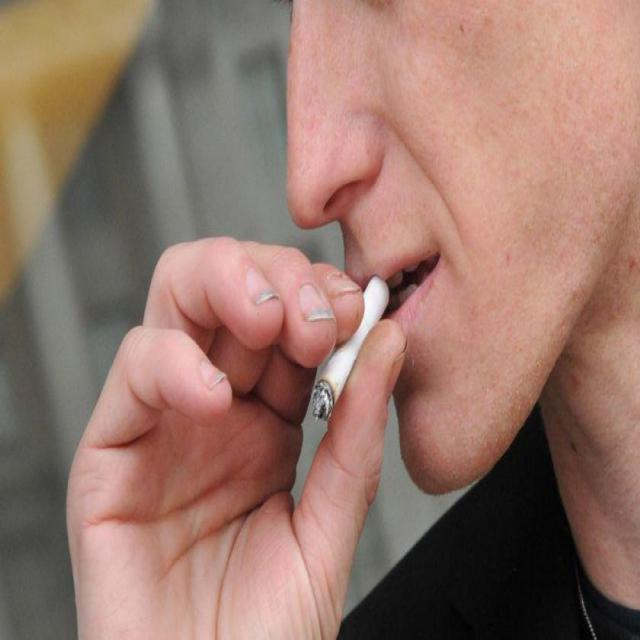smoke: (286, 233, 410, 456)
